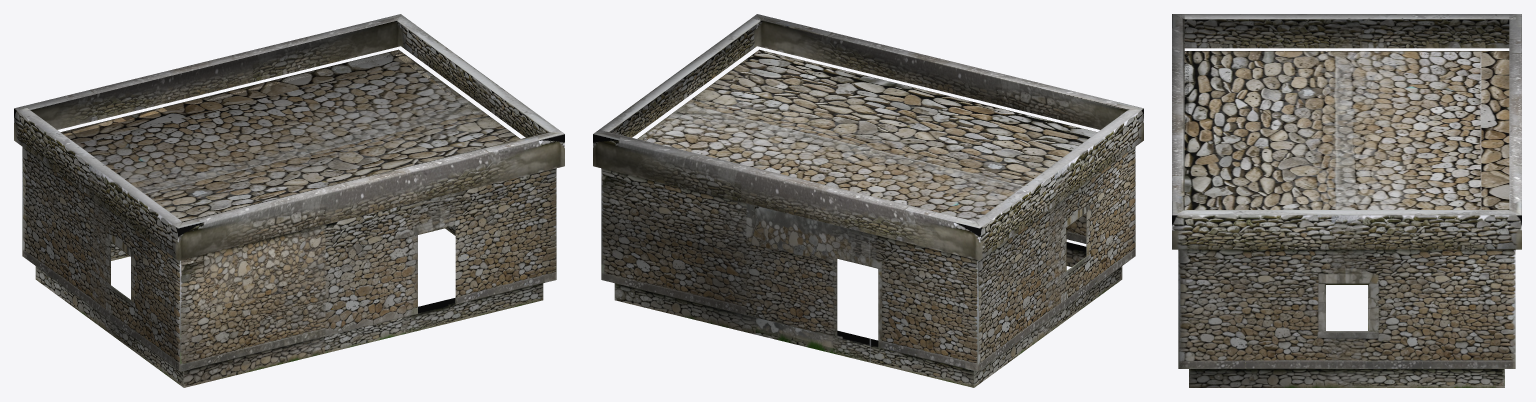
File: skin_flak_-150_215.glb
3 views of the same model, side by side, from view 1: azimuth 30°, elevation 25°; view 2: azimuth 150°, elevation 25°; view 3: azimuth 270°, elevation 25° (orthographic). The views are drawn at different scales.
Parts seen in each view (by area): view 1: Farmhouse; view 2: Farmhouse; view 3: Farmhouse.
Boxes of the visible parts, x1,y1,x2,y2 form: Farmhouse: [14, 14, 564, 387]; Farmhouse: [593, 14, 1143, 387]; Farmhouse: [1172, 14, 1521, 387].
Bounding box in the file's own units: 11.3 × 4.71 × 8.3.
Materials: 1 (1 with a texture image).
